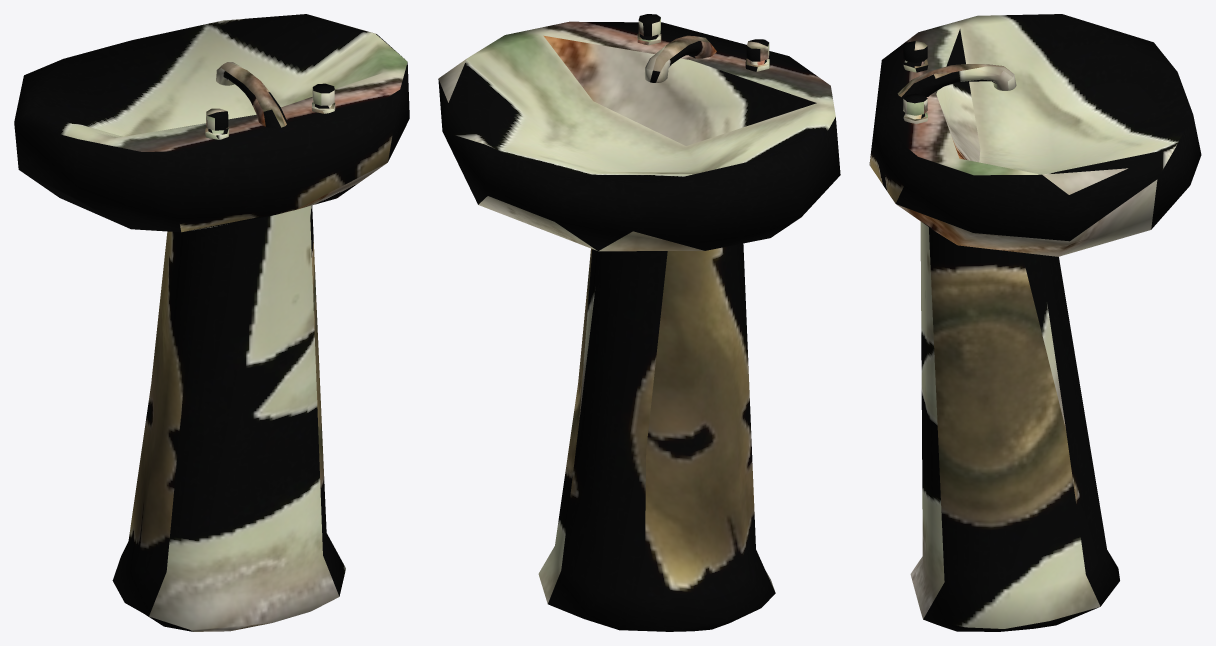
File: BrknSink 1.fbx
The picture shows the model from 3 angles, left to right: view 1: azimuth 30°, elevation 25°; view 2: azimuth 150°, elevation 25°; view 3: azimuth 270°, elevation 25°; orthographic projection. The views are drawn at different scales.
Visible parts, largest first — view 1: Cube.012; view 2: Cube.012; view 3: Cube.012.
Part boxes in pixels (<box>): Cube.012: <box>14,14,409,631</box>; Cube.012: <box>438,14,840,631</box>; Cube.012: <box>869,14,1201,631</box>.
Bounding box in the file's own units: 50 × 70 × 40.
